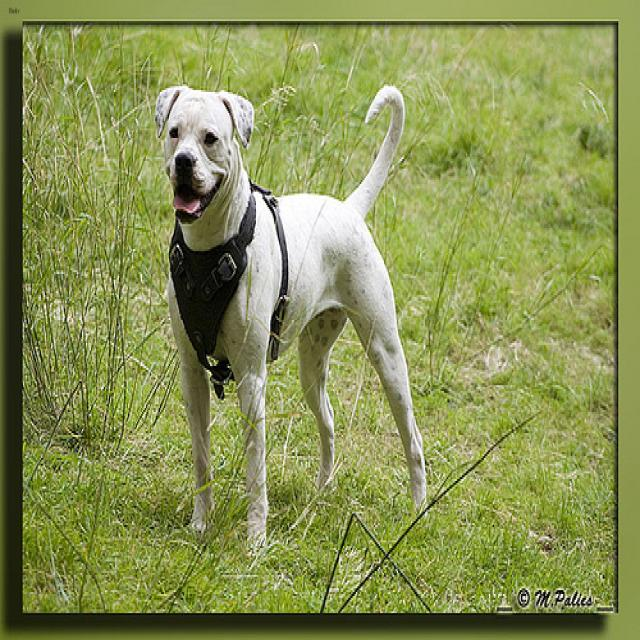dog-american_bulldog: (151, 77, 430, 558)
